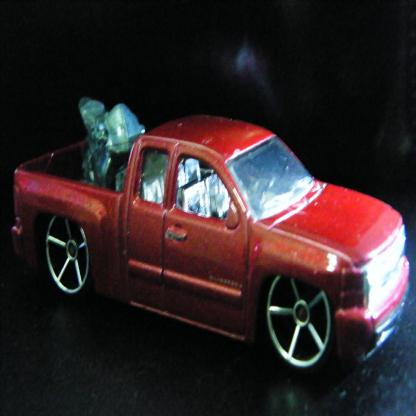Truck: (12, 114, 410, 376)
